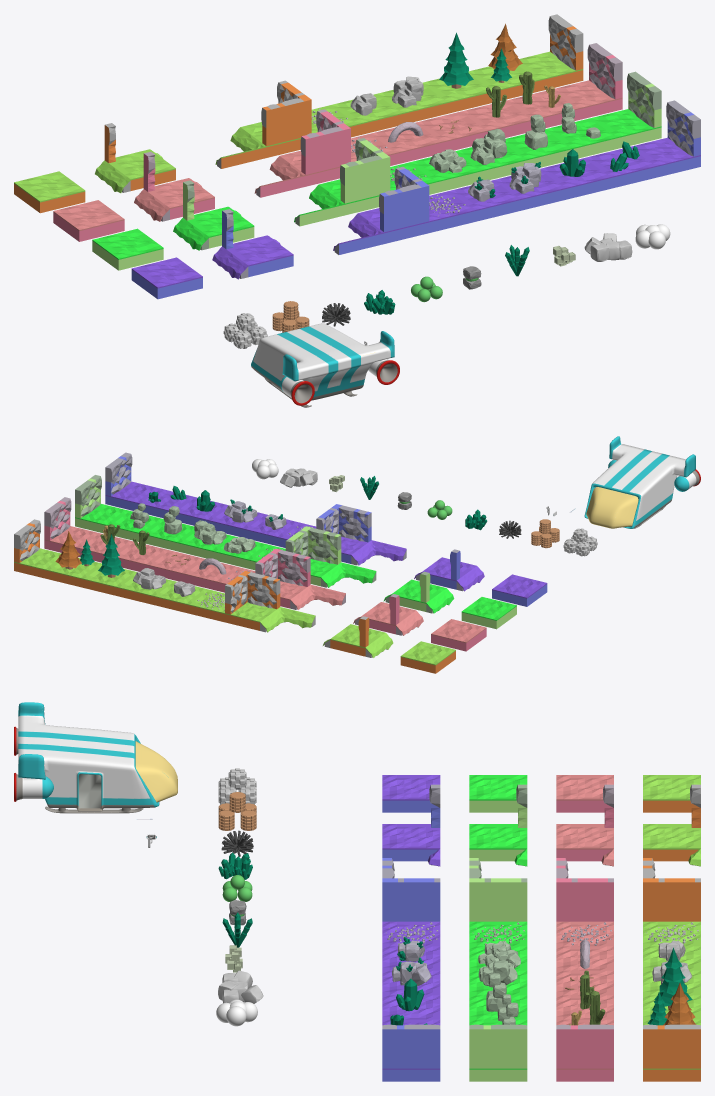
The model's file is System Scape Assets.fbx.
3 views of the same model, one above another, from view 1: azimuth 30°, elevation 25°; view 2: azimuth 150°, elevation 25°; view 3: azimuth 270°, elevation 25° (orthographic). The views are drawn at different scales.
Visible parts, largest first — view 1: Spaceship, Regio Corner Interior, Phobos Corner Interior, Mercum Corner Interior, Colis Corner Interior, Colis Wall, Regio Wall, Phobos Wall, Mercum Wall, Mercum Pine, Regio Corner Exterior, Phobos Base (+34 smaller); view 2: Spaceship, Mercum Corner Interior, Phobos Corner Interior, Colis Corner Interior, Regio Corner Interior, Regio Wall, Phobos Wall, Mercum Wall, Colis Wall, Mercum Pines, Mercum Pine, Colis Base (+34 smaller); view 3: Spaceship, Phobos Wall, Regio Wall, Mercum Wall, Colis Wall, Regio Corner Interior, Phobos Corner Interior, Colis Corner Interior, Mercum Corner Interior, Regio Corner Exterior, Phobos Corner Exterior, Colis Corner Exterior (+31 smaller).
Part boxes in pixels (x1=…): Spaceship: x1=251, y1=323, x2=399, y2=407; Regio Corner Interior: x1=358, y1=166, x2=429, y2=243; Phobos Corner Interior: x1=319, y1=138, x2=390, y2=215; Mercum Corner Interior: x1=240, y1=80, x2=311, y2=157; Colis Corner Interior: x1=280, y1=109, x2=350, y2=186; Colis Wall: x1=555, y1=43, x2=622, y2=120; Regio Wall: x1=631, y1=100, x2=700, y2=177; Phobos Wall: x1=590, y1=71, x2=661, y2=148; Mercum Wall: x1=519, y1=14, x2=583, y2=91; Mercum Pine: x1=422, y1=32, x2=492, y2=113; Regio Corner Exterior: x1=222, y1=209, x2=293, y2=277; Phobos Base: x1=92, y1=228, x2=163, y2=270; Spaceship: x1=584, y1=436, x2=700, y2=528; Mercum Corner Interior: x1=225, y1=571, x2=280, y2=630; Phobos Corner Interior: x1=285, y1=526, x2=341, y2=586; Colis Corner Interior: x1=255, y1=548, x2=310, y2=608; Regio Corner Interior: x1=316, y1=504, x2=371, y2=563; Regio Wall: x1=105, y1=452, x2=160, y2=510; Phobos Wall: x1=75, y1=475, x2=129, y2=532; Mercum Wall: x1=14, y1=519, x2=61, y2=579; Colis Wall: x1=44, y1=497, x2=99, y2=556; Mercum Pines: x1=49, y1=531, x2=101, y2=587; Mercum Pine: x1=84, y1=534, x2=136, y2=596; Colis Base: x1=431, y1=619, x2=486, y2=651; Spaceship: x1=14, y1=702, x2=177, y2=813; Phobos Wall: x1=469, y1=1024, x2=527, y2=1081; Regio Wall: x1=382, y1=1024, x2=440, y2=1081; Mercum Wall: x1=643, y1=1024, x2=700, y2=1081; Colis Wall: x1=556, y1=1024, x2=613, y2=1081; Regio Corner Interior: x1=382, y1=858, x2=440, y2=921; Phobos Corner Interior: x1=469, y1=858, x2=527, y2=921; Colis Corner Interior: x1=556, y1=858, x2=613, y2=921; Mercum Corner Interior: x1=643, y1=858, x2=700, y2=921; Regio Corner Exterior: x1=382, y1=784, x2=440, y2=861; Phobos Corner Exterior: x1=469, y1=784, x2=527, y2=861; Colis Corner Exterior: x1=556, y1=784, x2=613, y2=861.
Bounding box in the file's own units: 25.4 × 2.98 × 23.73.
